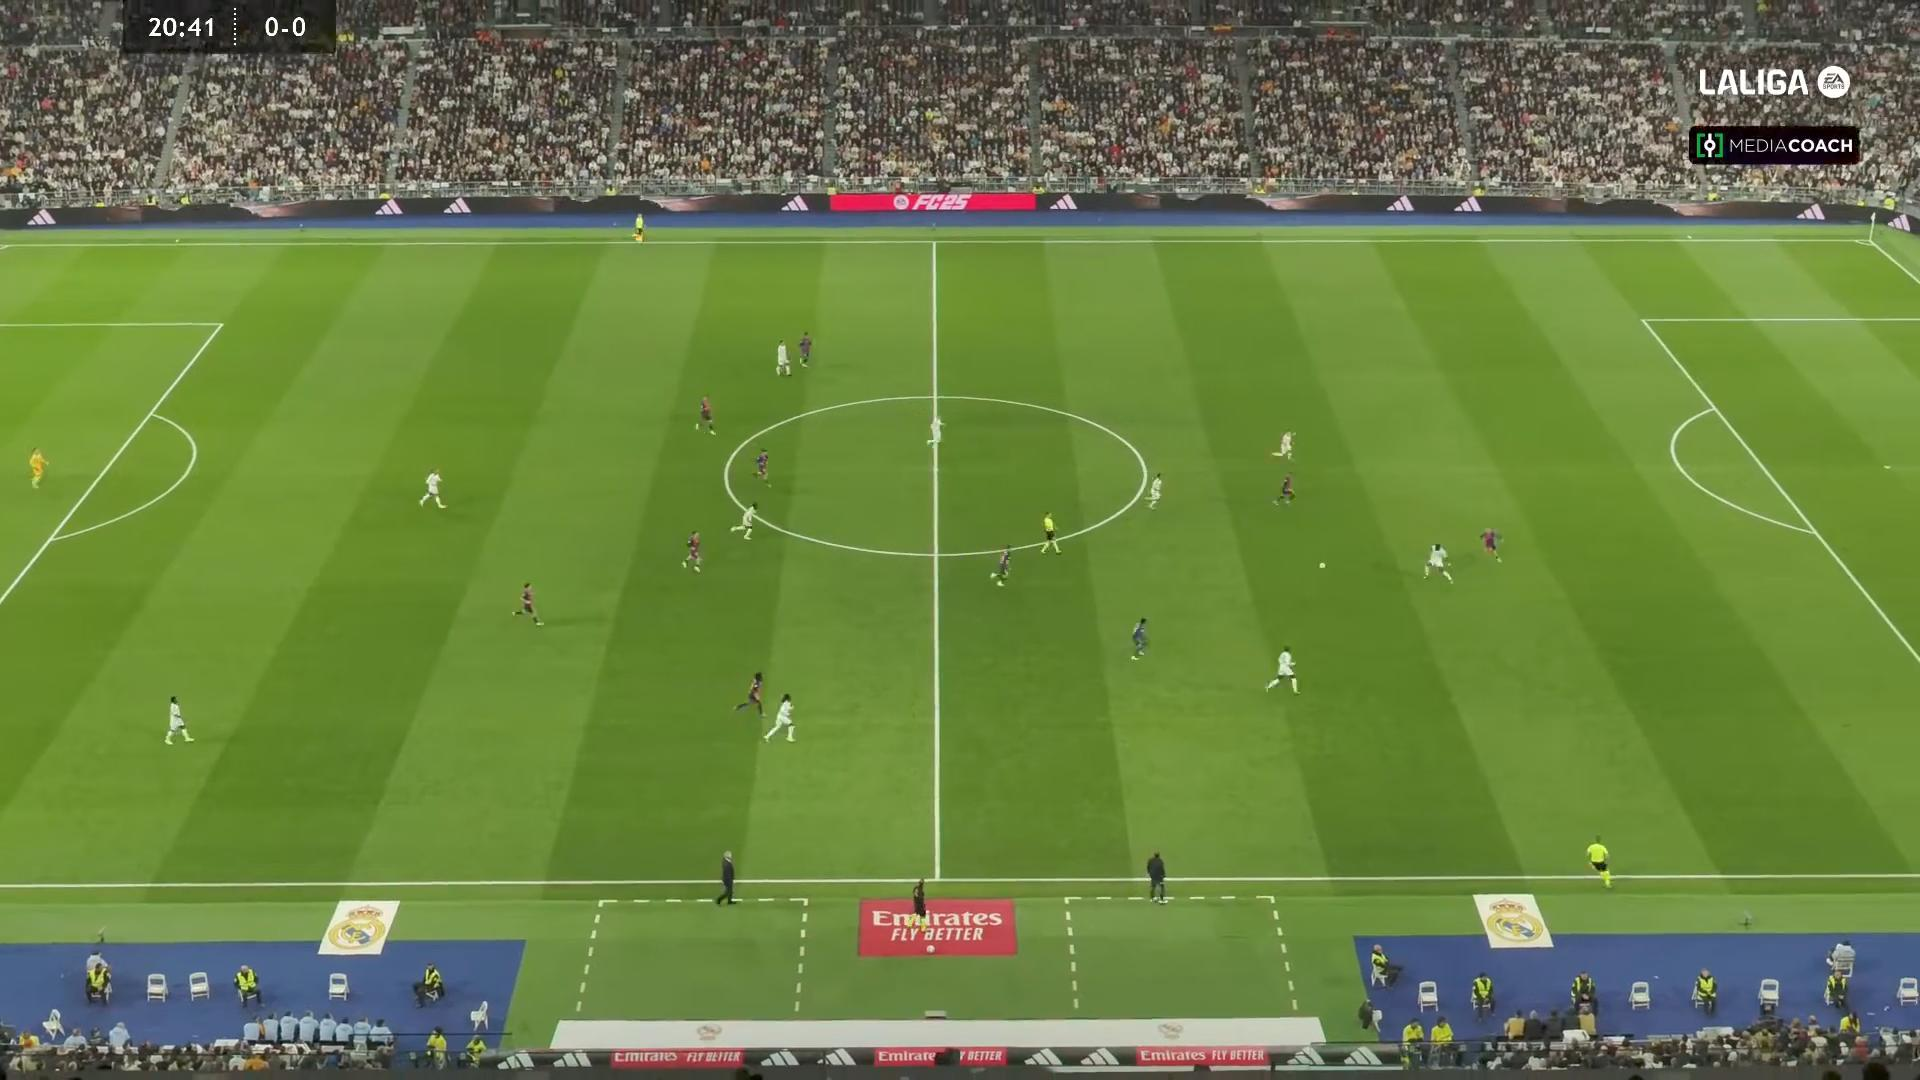ball: (1319, 562, 1326, 569)
goalkeeper: (28, 446, 47, 488)
player: (1264, 645, 1299, 695), (761, 692, 795, 743), (163, 695, 194, 745), (511, 581, 543, 627), (732, 671, 764, 716), (1422, 542, 1453, 584), (418, 468, 445, 510), (735, 501, 759, 541), (693, 393, 715, 436), (990, 544, 1012, 587), (681, 529, 702, 573), (1478, 526, 1503, 562), (1129, 616, 1148, 660), (1271, 429, 1295, 460), (1273, 473, 1295, 505), (1145, 472, 1163, 509), (774, 339, 791, 376), (753, 448, 770, 485), (799, 331, 813, 368), (929, 416, 944, 449)
referee: (1585, 834, 1612, 887), (1039, 511, 1062, 555)
staff: (1145, 850, 1168, 902), (715, 850, 736, 905)
